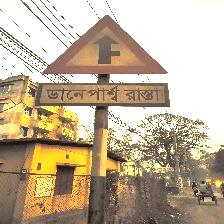Side-road-right: (40, 14, 171, 107)
